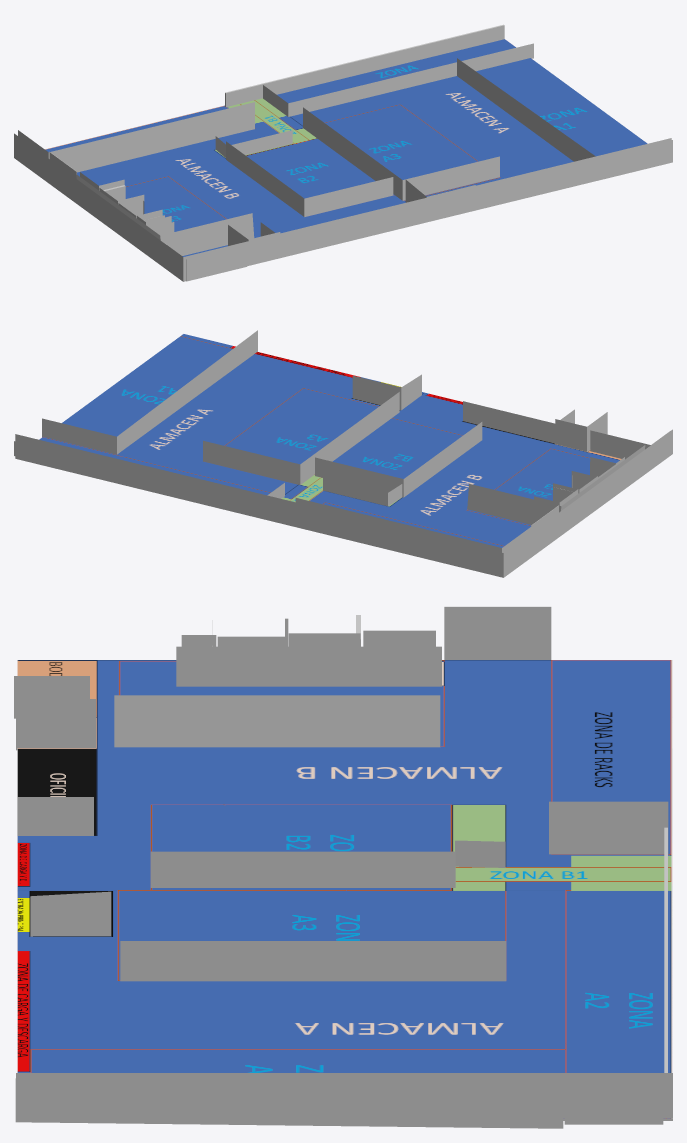
Rendered from BodegaJumbo.glb.
The picture shows the model from 3 angles, top to bottom: view 1: azimuth 30°, elevation 25°; view 2: azimuth 150°, elevation 25°; view 3: azimuth 270°, elevation 25°; orthographic projection. The views are drawn at different scales.
Parts seen in each view (by area): view 1: Plane, Cube, Cube.010, Cube.001, Cube.008, Cube.011, Cube.006, Cube.002, Cube.003, Cube.007; view 2: Plane, Cube, Cube.010, Cube.008, Cube.006, Cube.002, Cube.005, Cube.009, Cube.001, Cube.004, Cube.007, Cube.003; view 3: Plane, Cube.010, Cube, Cube.002, Cube.008, Cube.006, Cube.001, Cube.004, Cube.009, Cube.005, Cube.011, Cube.003 (+1 smaller).
Boxes of the visible parts, x1=… form: Plane: x1=45, y1=39, x2=647, y2=256; Cube: x1=14, y1=133, x2=671, y2=281; Cube.010: x1=49, y1=24, x2=672, y2=227; Cube.001: x1=18, y1=102, x2=254, y2=172; Cube.008: x1=303, y1=107, x2=499, y2=200; Cube.011: x1=263, y1=43, x2=533, y2=116; Cube.006: x1=226, y1=141, x2=393, y2=216; Cube.002: x1=76, y1=174, x2=254, y2=255; Cube.003: x1=167, y1=245, x2=247, y2=281; Cube.007: x1=215, y1=130, x2=292, y2=157; Plane: x1=39, y1=334, x2=621, y2=547; Cube: x1=15, y1=429, x2=672, y2=577; Cube.010: x1=42, y1=330, x2=624, y2=531; Cube.008: x1=203, y1=392, x2=399, y2=484; Cube.006: x1=315, y1=422, x2=482, y2=497; Cube.002: x1=467, y1=445, x2=645, y2=524; Cube.005: x1=463, y1=401, x2=574, y2=443; Cube.009: x1=352, y1=374, x2=421, y2=410; Cube.001: x1=295, y1=498, x2=532, y2=552; Cube.004: x1=555, y1=412, x2=607, y2=451; Cube.007: x1=323, y1=477, x2=402, y2=506; Cube.003: x1=590, y1=430, x2=669, y2=459; Plane: x1=17, y1=660, x2=672, y2=1118; Cube.010: x1=15, y1=606, x2=667, y2=1128; Cube: x1=16, y1=615, x2=672, y2=1120; Cube.002: x1=114, y1=695, x2=440, y2=747; Cube.008: x1=120, y1=941, x2=506, y2=981; Cube.006: x1=150, y1=851, x2=455, y2=887; Cube.001: x1=549, y1=801, x2=668, y2=854; Cube.004: x1=16, y1=699, x2=95, y2=750; Cube.009: x1=30, y1=891, x2=111, y2=936; Cube.005: x1=17, y1=797, x2=93, y2=835; Cube.011: x1=564, y1=1095, x2=663, y2=1124; Cube.003: x1=14, y1=676, x2=89, y2=718.
Bounding box in the file's own units: 77.75 × 4.94 × 46.46.
Materials: 1 (1 with a texture image).
